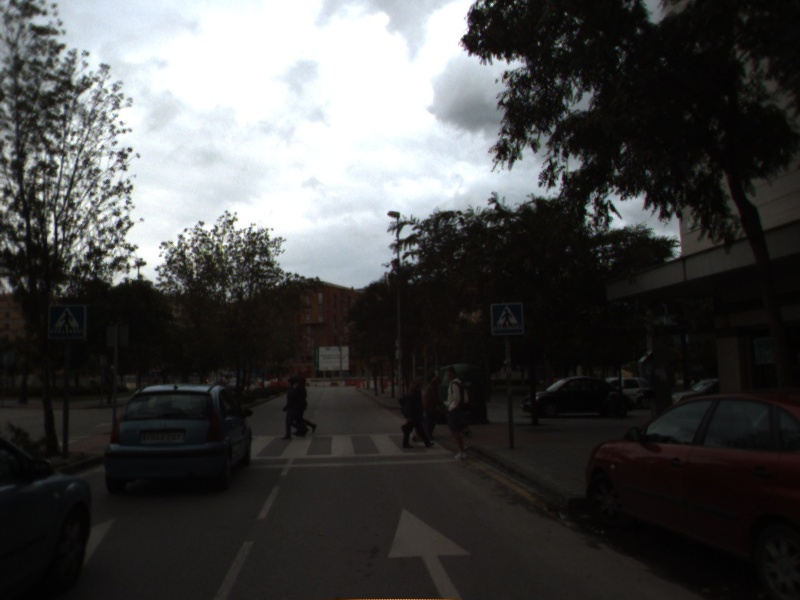STRAIGHT: (385, 505, 476, 600)
